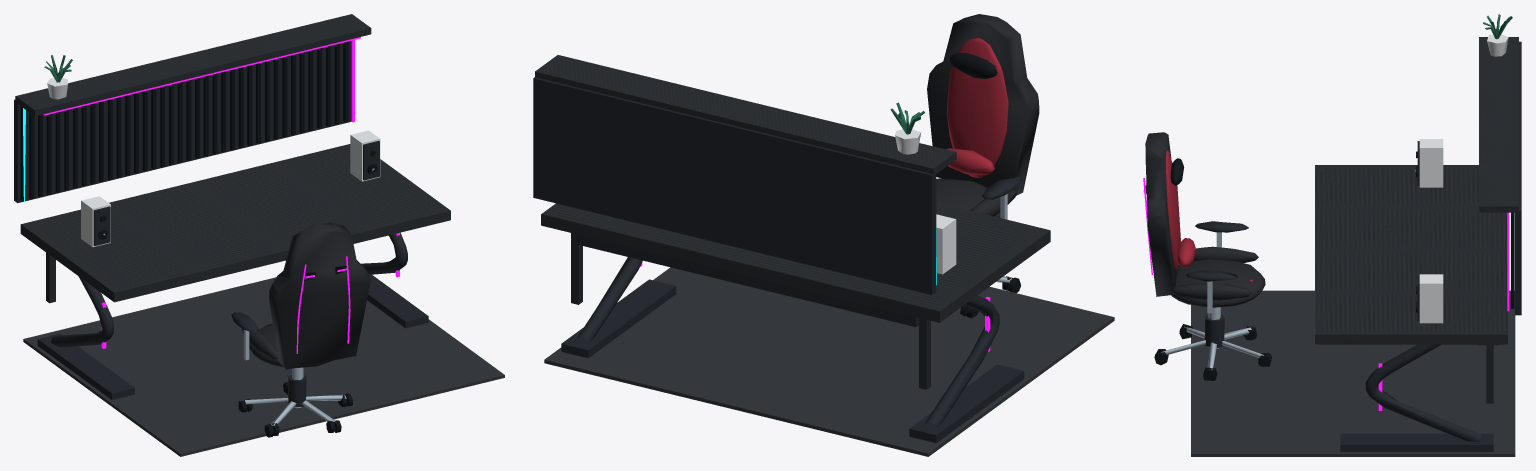
File: furniture87-carbon.glb
3 renders of one model, left to right at view 1: azimuth 30°, elevation 25°; view 2: azimuth 150°, elevation 25°; view 3: azimuth 270°, elevation 25°, orthographic. The views are drawn at different scales.
Visible parts, largest first — view 1: s83-surface-cb0b5405-dc50-4b33-a34b-141707f43296, s83-surface-167def71-6918-47ee-8776-8018da9233e3, s83-surface-4f938afe-b721-4bf6-9cd6-7f2f804629de; view 2: s83-surface-cb0b5405-dc50-4b33-a34b-141707f43296, s83-surface-167def71-6918-47ee-8776-8018da9233e3; view 3: s83-surface-cb0b5405-dc50-4b33-a34b-141707f43296, s83-surface-167def71-6918-47ee-8776-8018da9233e3, s83-surface-4f938afe-b721-4bf6-9cd6-7f2f804629de.
Part boxes in pixels (bbox=[...]): s83-surface-cb0b5405-dc50-4b33-a34b-141707f43296: bbox=[14, 41, 504, 456]; s83-surface-167def71-6918-47ee-8776-8018da9233e3: bbox=[15, 14, 450, 302]; s83-surface-4f938afe-b721-4bf6-9cd6-7f2f804629de: bbox=[43, 37, 399, 353]; s83-surface-cb0b5405-dc50-4b33-a34b-141707f43296: bbox=[533, 14, 1114, 456]; s83-surface-167def71-6918-47ee-8776-8018da9233e3: bbox=[535, 55, 1050, 322]; s83-surface-cb0b5405-dc50-4b33-a34b-141707f43296: bbox=[1145, 14, 1521, 456]; s83-surface-167def71-6918-47ee-8776-8018da9233e3: bbox=[1315, 37, 1518, 344]; s83-surface-4f938afe-b721-4bf6-9cd6-7f2f804629de: bbox=[1143, 178, 1509, 410].
Bounding box in the file's own units: 2.2 × 1.76 × 2.08.
4 materials, 4 textured.
